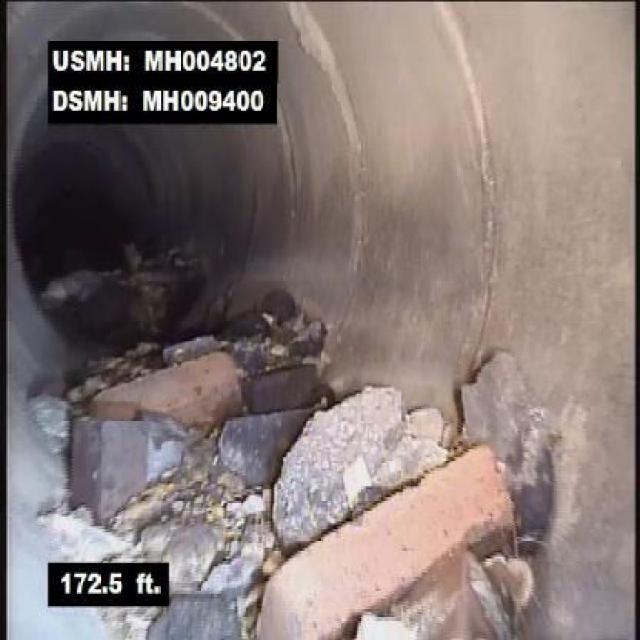Obstacle: (258, 343, 580, 639), (57, 337, 254, 525)
